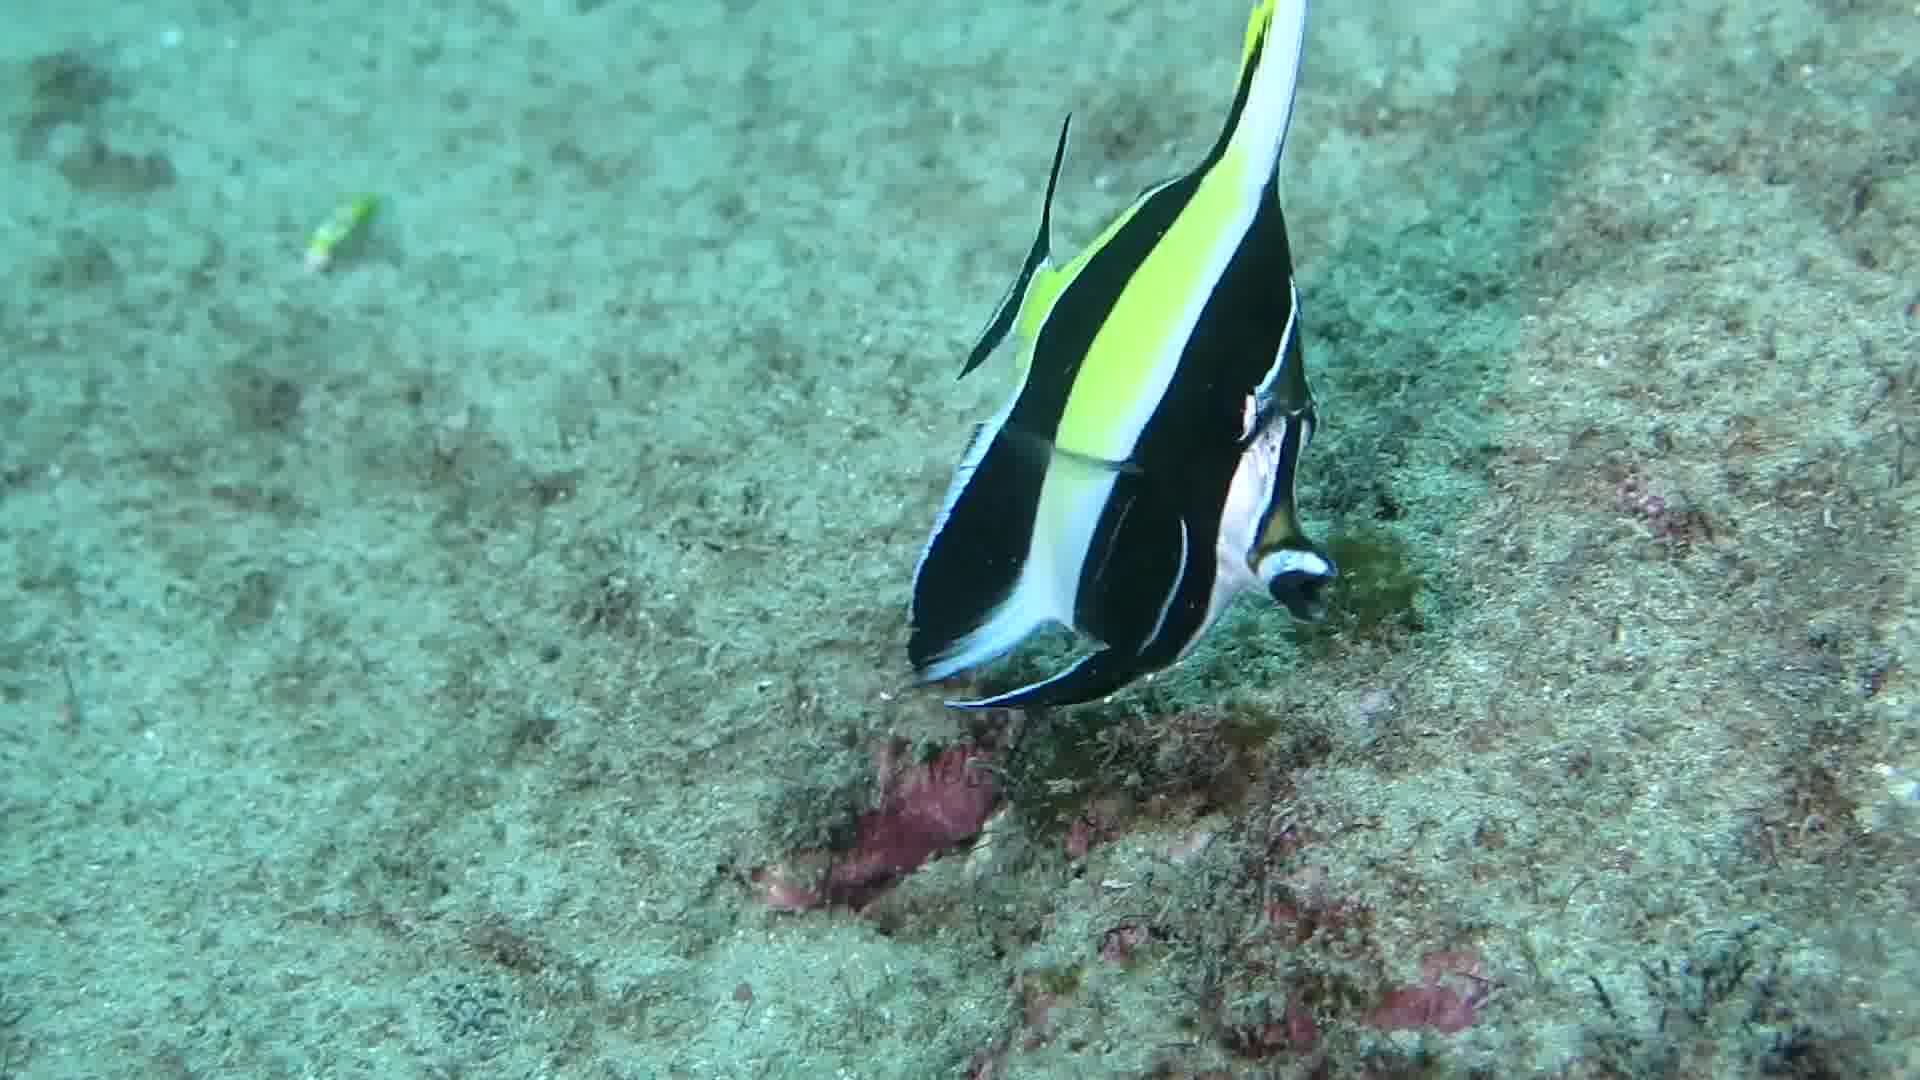Zanclus cornutus: (740, 153, 1505, 778)
